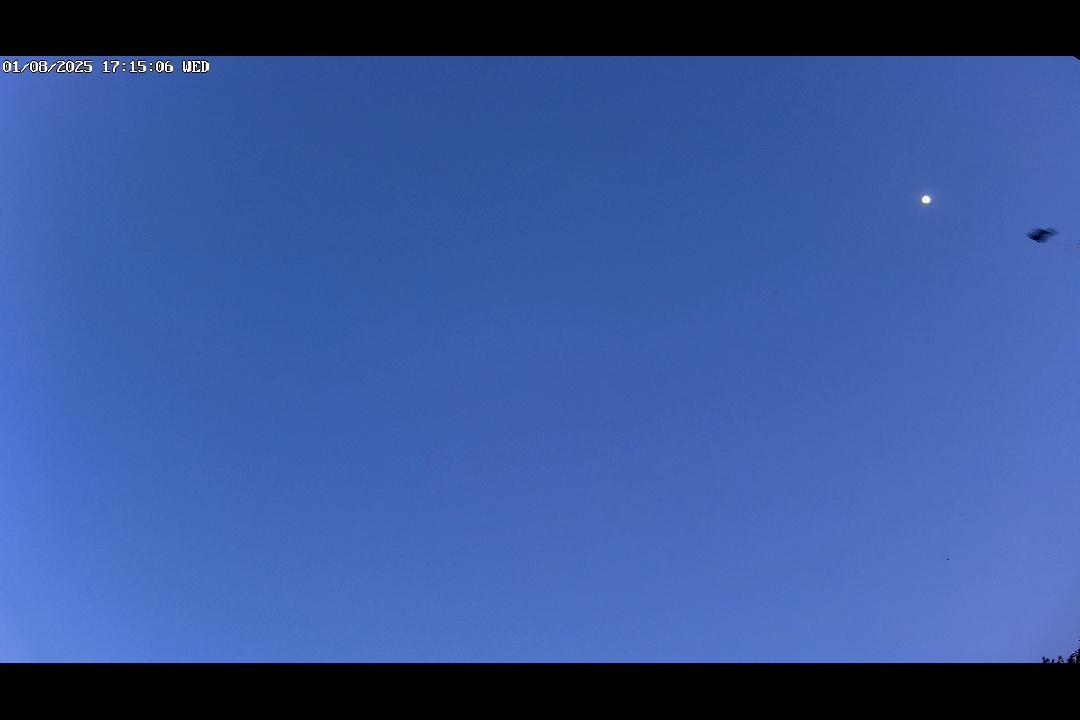WildLife: (1016, 220, 1064, 257), (943, 556, 954, 562)
